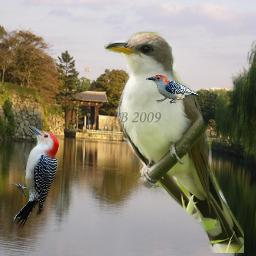Cuckoo: (104, 30, 244, 253)
Woodpecker: (11, 125, 60, 229), (146, 75, 200, 104)
